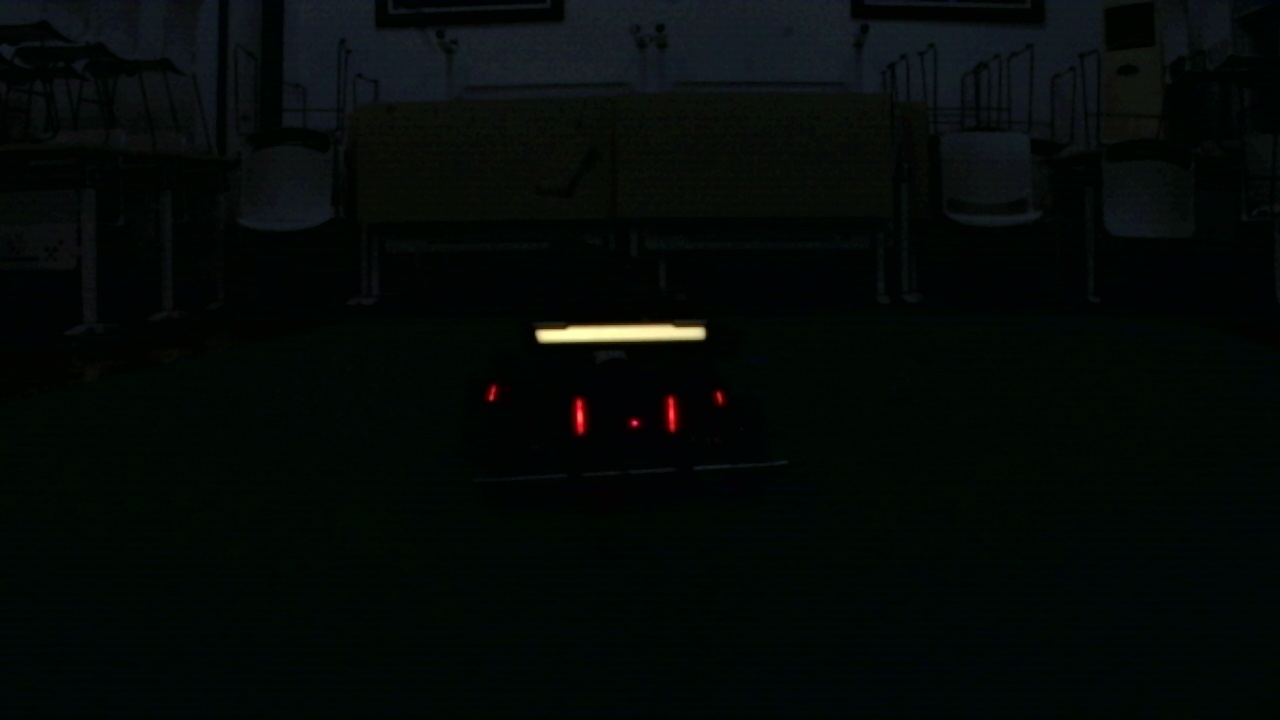lamp: (573, 392, 588, 435), (666, 395, 678, 436)
pair1: (574, 395, 678, 431)
